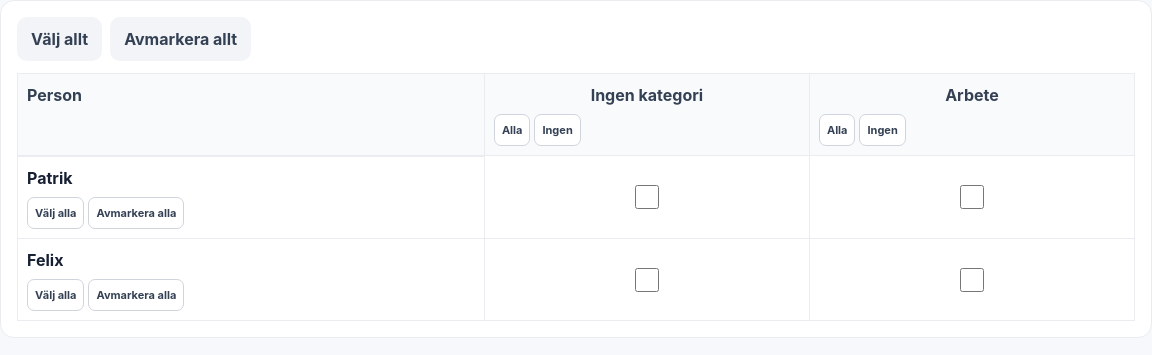
Test: CalendarFilterMatrix › väljer och avmarkerar hela matrisen inklusive Ingen kategori
Click the button "Välj allt" at {"x": 60, "y": 39}, box [17,17,102,61]
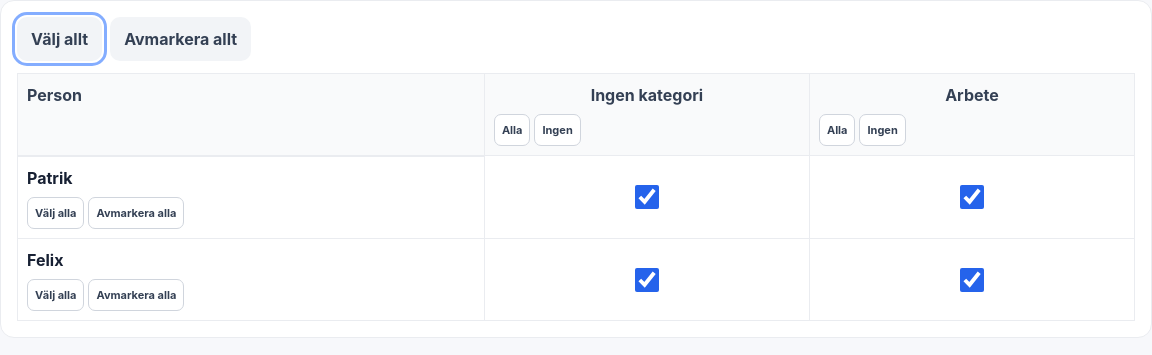
Expected: the checkbox named "Patrik – Ingen kategori – visas" is checked, [635,185,659,209]
Expected: the checkbox named "Patrik – Arbete – visas" is checked, [960,185,984,209]
Expected: the checkbox named "Felix – Ingen kategori – visas" is checked, [635,268,659,292]
Click the button "Avmarkera allt" at {"x": 181, "y": 39}, box [110,17,251,61]
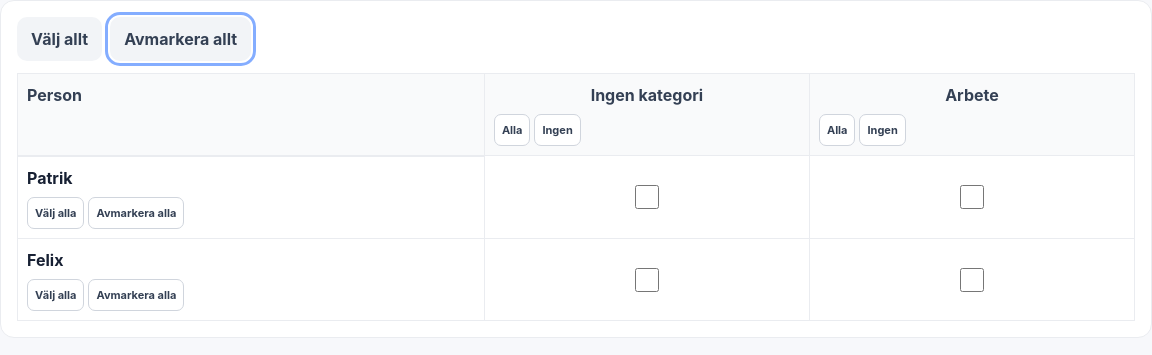
Expected: the checkbox named "Patrik – Ingen kategori – döljs" is not checked, [635,185,659,209]
Expected: the checkbox named "Patrik – Arbete – döljs" is not checked, [960,185,984,209]
Expected: the checkbox named "Felix – Ingen kategori – döljs" is not checked, [635,268,659,292]
